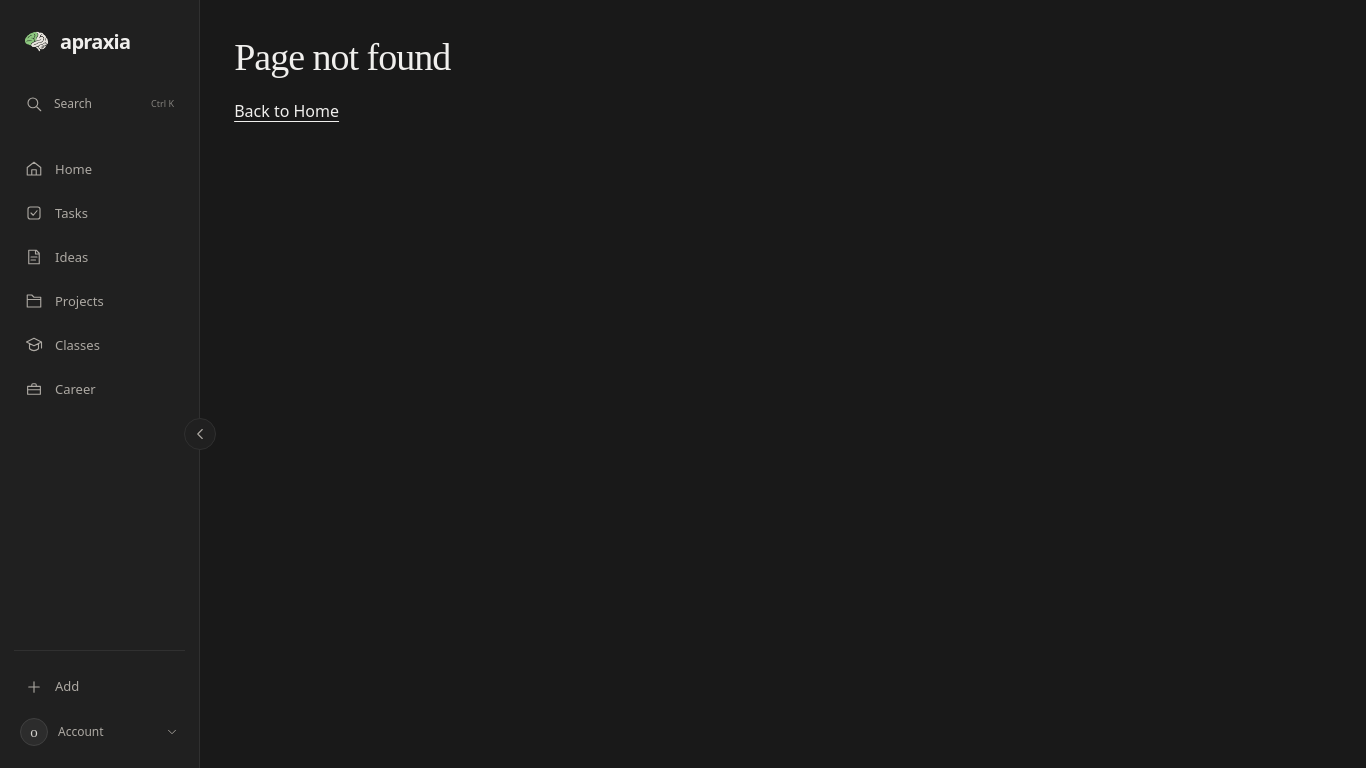
Test case: Main workspace integration › removes Media navigation, creation, and the old route
The image size is (1366, 768).
expect the heading "Page not found" is shown: met, box [234,36,450,78]
Click the button with aria-label "+ add" at x=100, y=686, box [14,667,185,706]
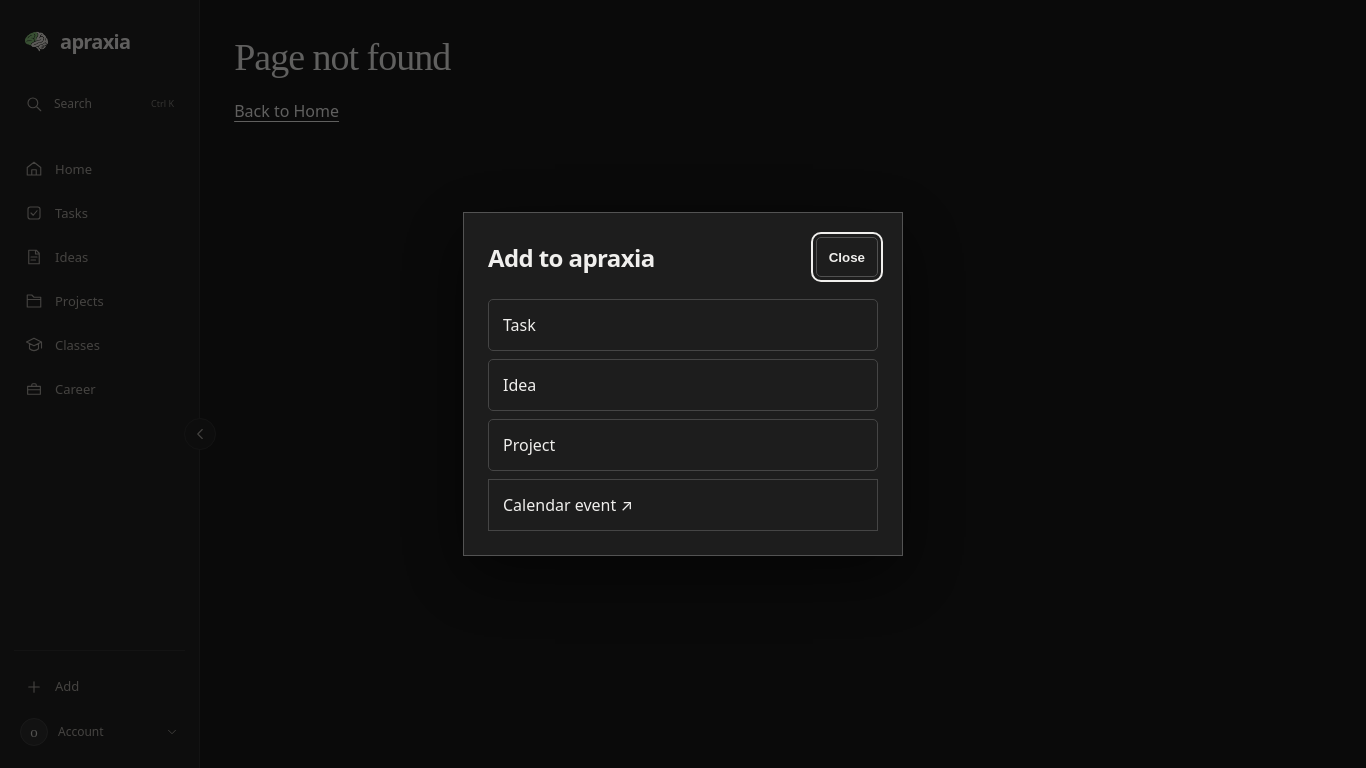
expect the button "Idea" is shown: met, box [488,359,878,411]
expect the button "Project" is shown: met, box [488,419,878,471]
